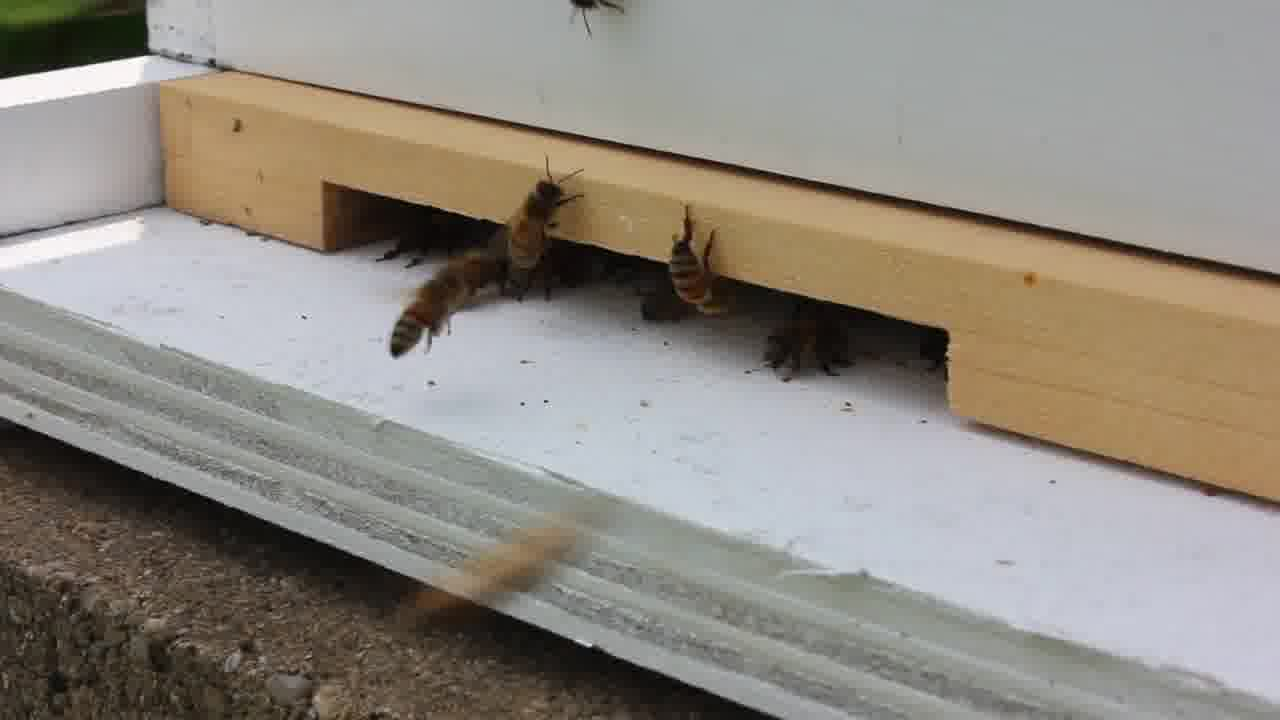pollen: (387, 274, 466, 364)
